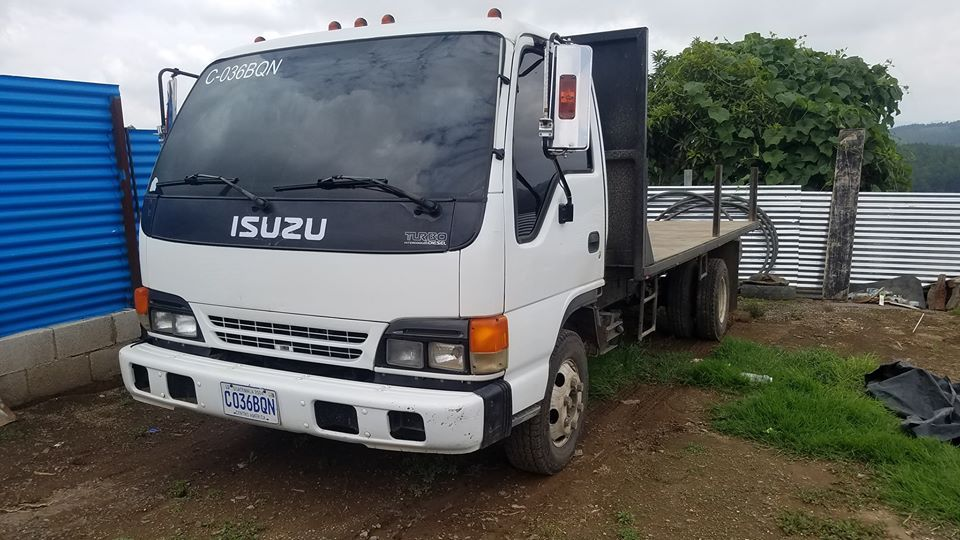camion: (121, 17, 761, 474)
